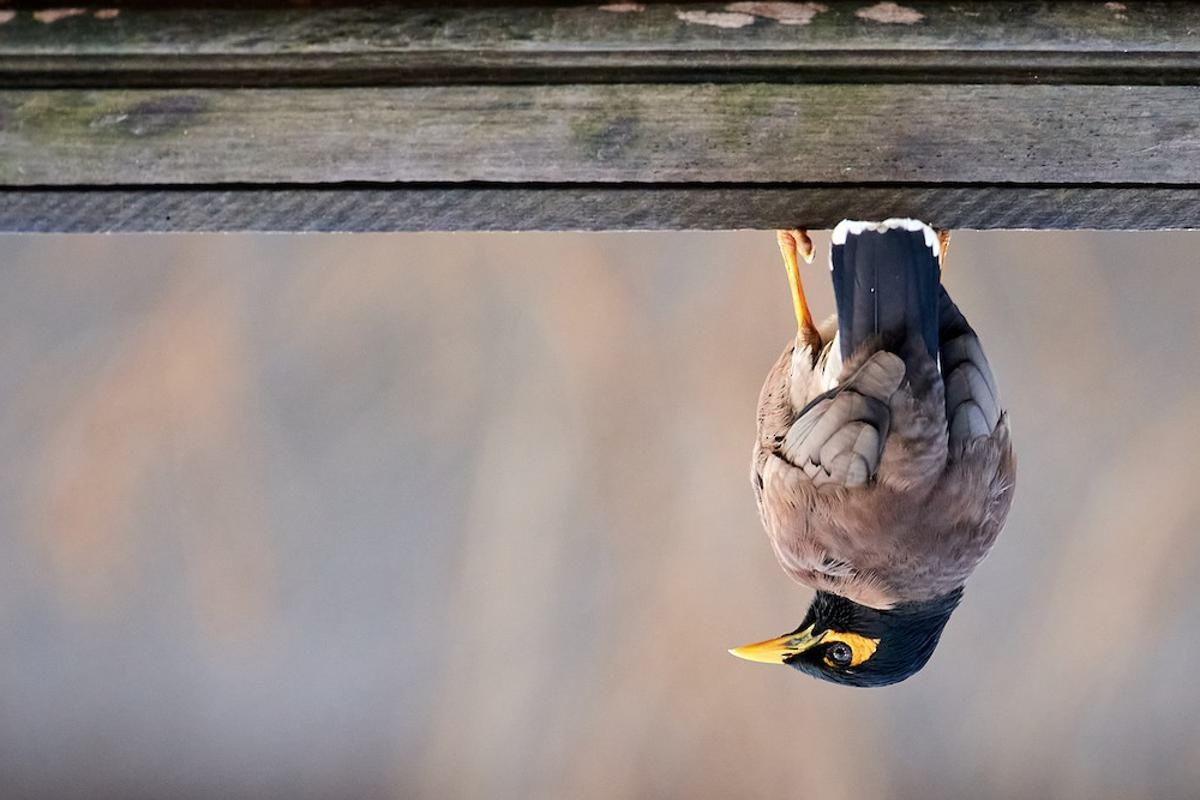myna: (718, 175, 1030, 740)
